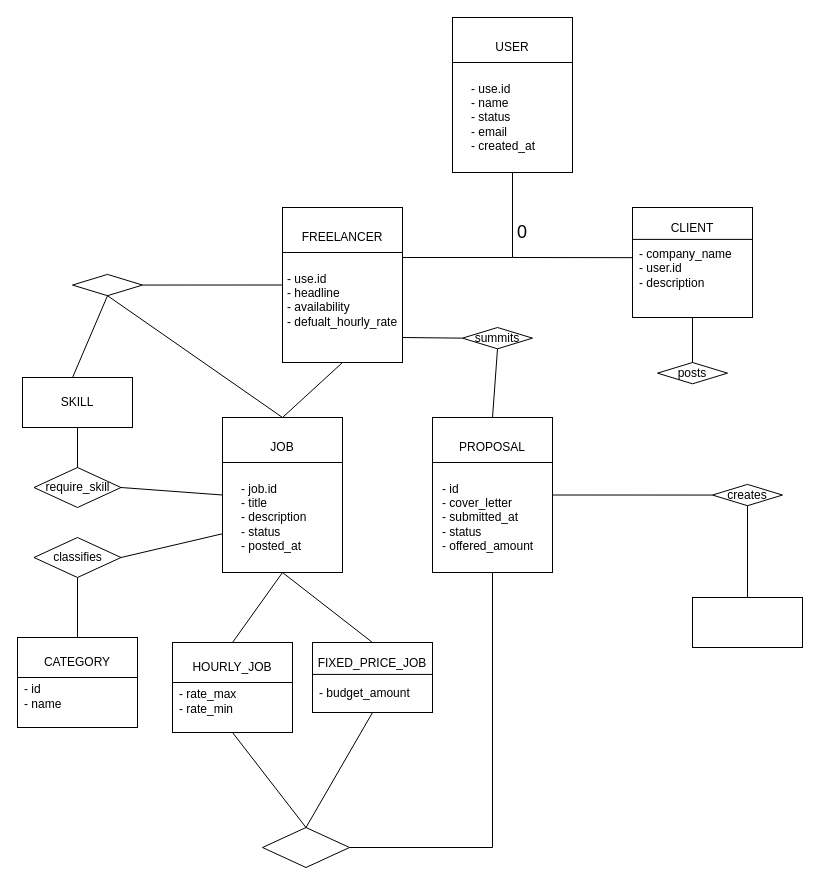
Some shapes in this 820 by 885 pixel diagram are drawn without their labels. The shapes that lost their labels are listed below. From the top down, each one's box as (x1, y1, x2, y2) in pixels, then its label:
(72, 273, 142, 296): has
(692, 596, 802, 648): CONTRACT
(262, 826, 350, 868): recieves
